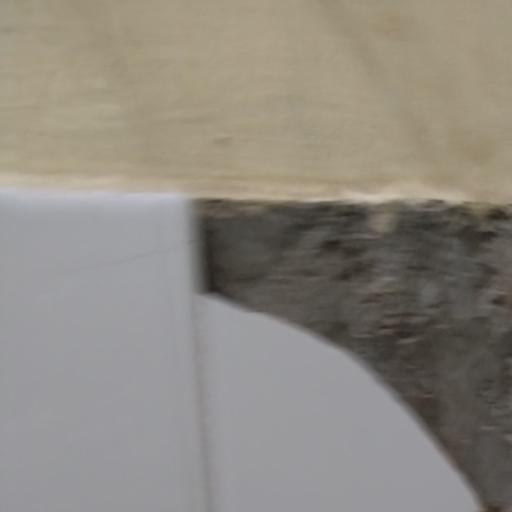spalling: (182, 178, 512, 512)
